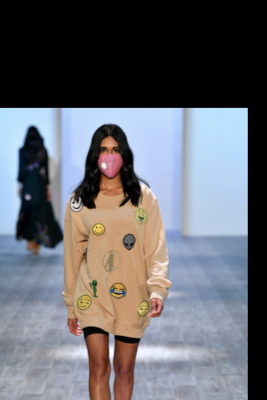with_mask: (96, 143, 124, 178)
